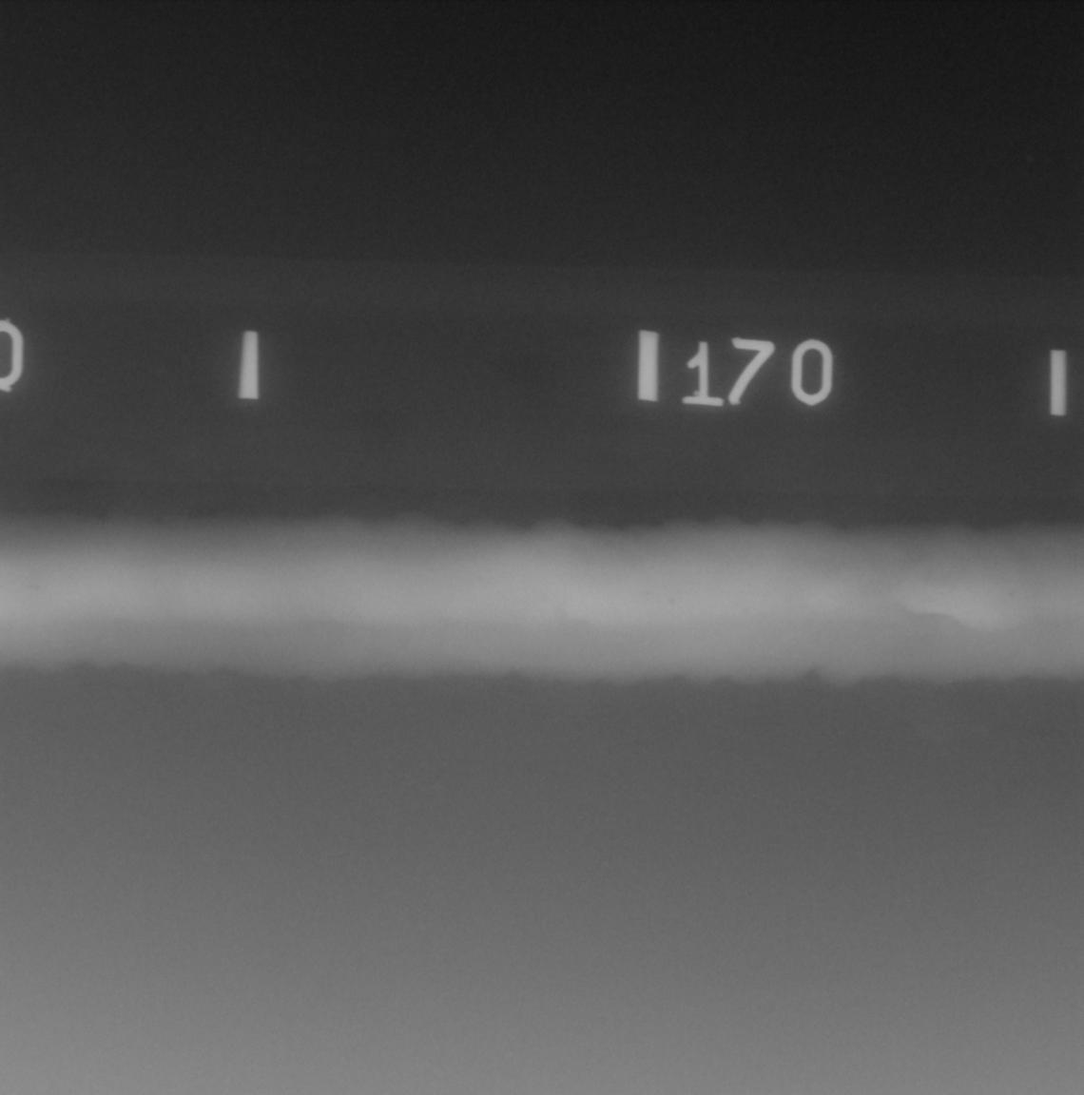Pore/Porosity: (30, 585, 40, 589), (669, 598, 675, 603), (1009, 592, 1015, 597), (643, 592, 649, 595)
